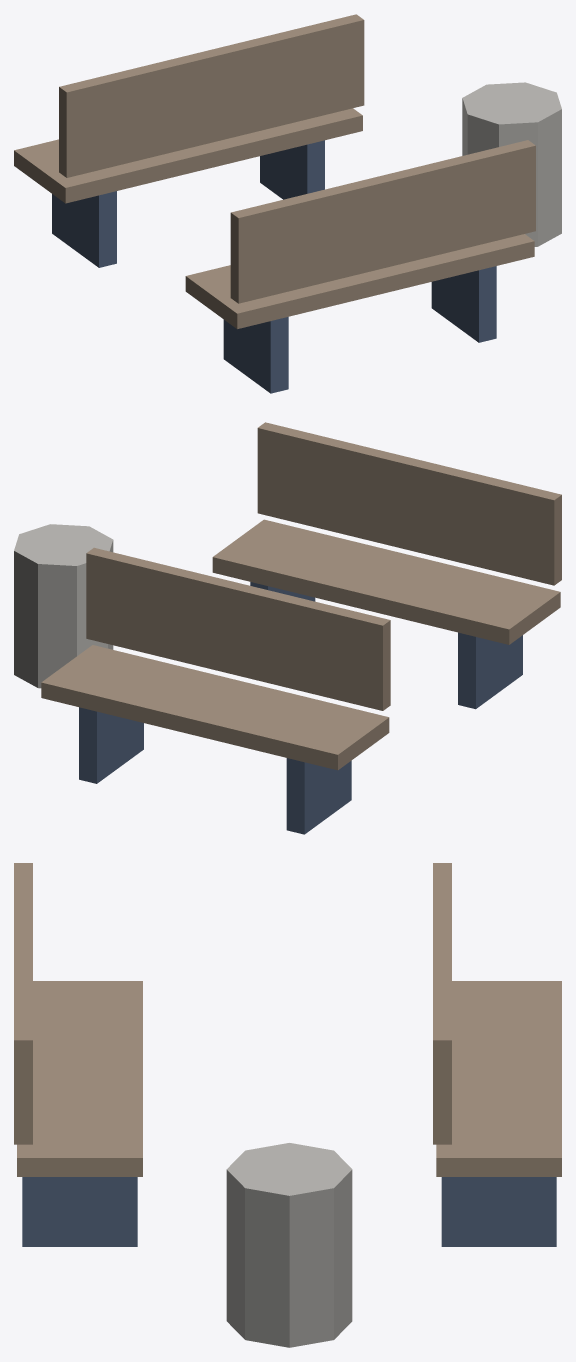
Rendered from 17_street_props-11.glb.
The picture shows the model from 3 angles, top to bottom: view 1: azimuth 30°, elevation 25°; view 2: azimuth 150°, elevation 25°; view 3: azimuth 270°, elevation 25°; orthographic projection. The views are drawn at different scales.
Size of the model in its own units: 2.9 by 1.2 by 2.61.
